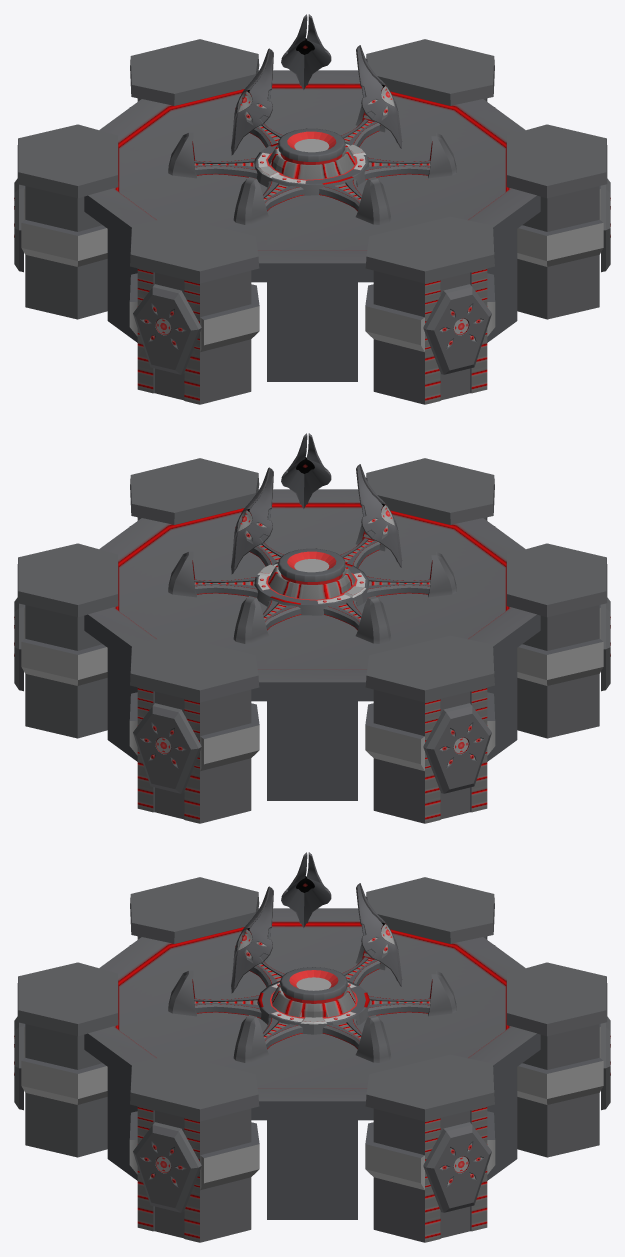
Rendered from ArtifactPlane.fbx.
3 views of the same model, one above another, from view 1: azimuth 30°, elevation 25°; view 2: azimuth 150°, elevation 25°; view 3: azimuth 270°, elevation 25° (orthographic).
Parts seen in each view (by area): view 1: ArtifactPlane, ArtifactBaes, ArtifactPlane2, ArtifactShield; view 2: ArtifactPlane, ArtifactBaes, ArtifactPlane2, ArtifactShield; view 3: ArtifactPlane, ArtifactBaes, ArtifactPlane2, ArtifactShield.
Boxes of the visible parts, x1,y1,x2,y2 form: ArtifactPlane: (17, 39, 607, 404); ArtifactBaes: (168, 89, 456, 224); ArtifactPlane2: (14, 178, 610, 374); ArtifactShield: (231, 14, 402, 155); ArtifactPlane: (17, 458, 607, 823); ArtifactBaes: (168, 508, 456, 643); ArtifactPlane2: (14, 597, 610, 793); ArtifactShield: (231, 433, 402, 574); ArtifactPlane: (17, 877, 607, 1242); ArtifactBaes: (168, 927, 456, 1062); ArtifactPlane2: (14, 1016, 610, 1212); ArtifactShield: (231, 852, 402, 993).
Size of the model in its own units: 7 by 3.6 by 7.58.
